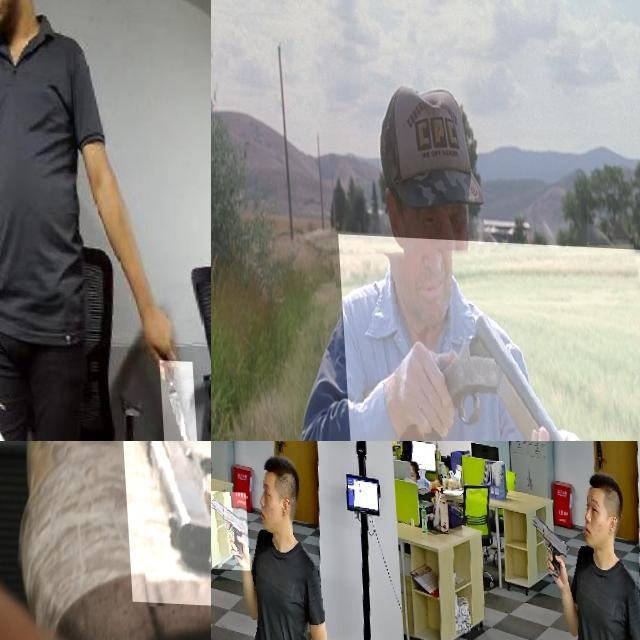-: (153, 357, 191, 441)
gun-knife-thesis - v11 Yolov5 augmented: (334, 232, 640, 441), (113, 441, 211, 605), (211, 489, 248, 569), (528, 504, 567, 574)
